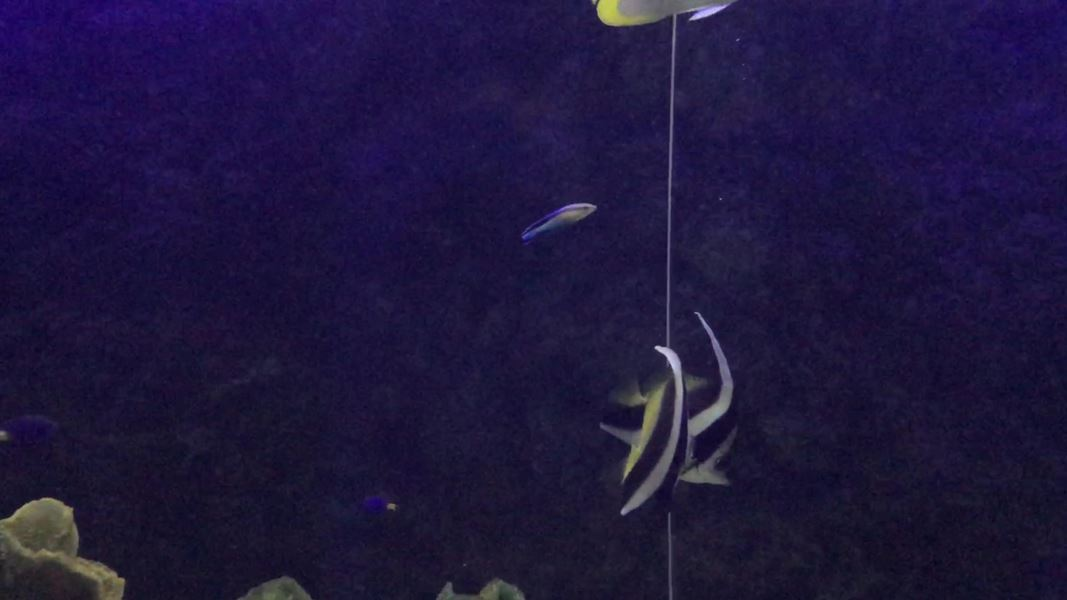Bluesteak cleaner wrasse: (509, 188, 602, 258)
